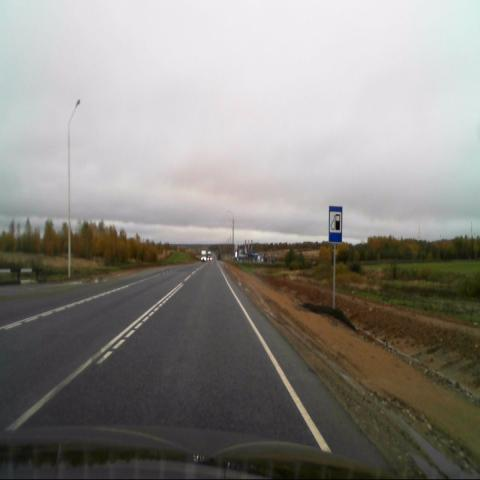7_3: (328, 205, 342, 242)
